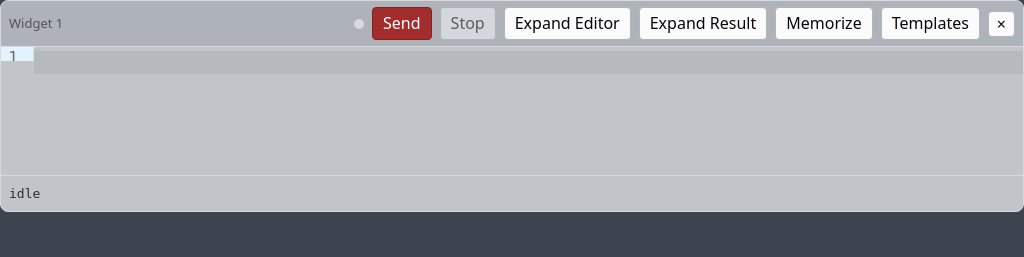
Test: Widget › shows a success status line with the raw result after a successful injection
Click the button "Send". click: (402, 24)
box: x1=372 y1=7 x2=432 y2=40
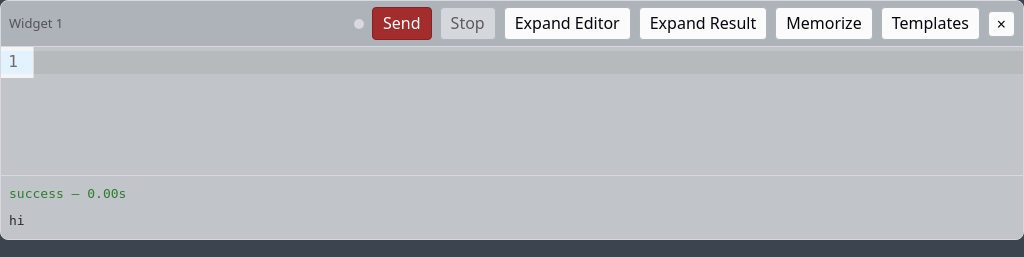
Expected: the text "success — 0.00s" is shown, x1=9 y1=186 x2=126 y2=201
Now the text "hi" is shown, box x1=9 y1=213 x2=25 y2=228
